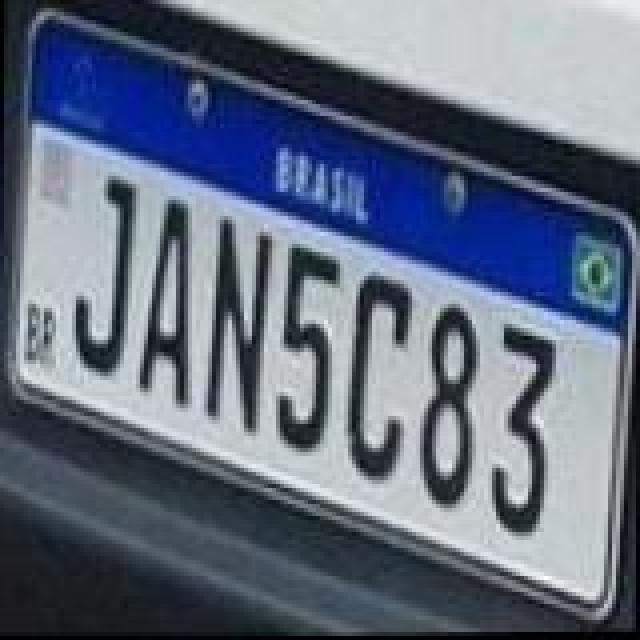3: (492, 322, 560, 538)
5: (276, 240, 348, 456)
8: (418, 300, 482, 508)
A: (140, 196, 196, 412)
C: (348, 276, 416, 488)
J: (68, 172, 140, 376)
N: (204, 212, 276, 436)
